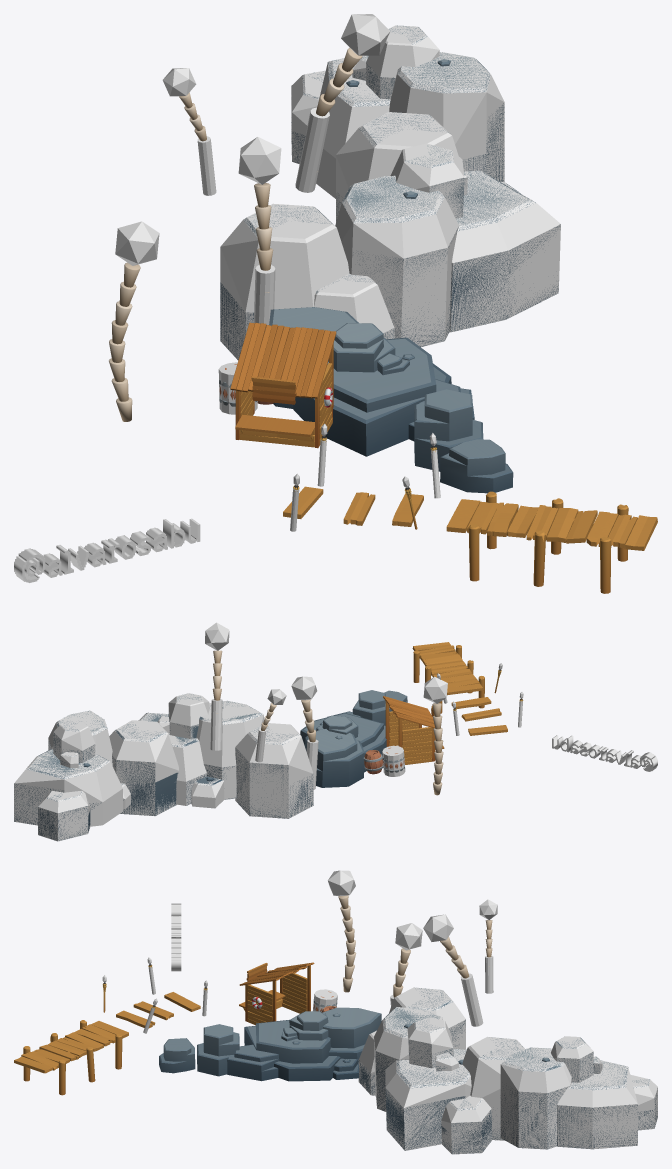
The model's file is portfolio-island.glb.
3 views of the same model, one above another, from view 1: azimuth 30°, elevation 25°; view 2: azimuth 150°, elevation 25°; view 3: azimuth 270°, elevation 25° (orthographic). The views are drawn at different scales.
Parts seen in each view (by area): view 1: Rock_1_M_Part_3-convcolonly.001, Rock_1_M_Color1, Rock_1_M_Part_2-convcolonly.001, Rock_1_F-convcolonly.003, Kyosko, Rock_1_M_Color1.001, Deck, Rock_1_M_Part_3-convcolonly.002, Rock_1_F-convcolonly.002, Rock_1_M_Color1.002, Rock_1_F_Color1, Rock_1_M_Part_2-convcolonly.002 (+15 smaller); view 2: Rock_1_F-convcolonly.003, Rock_1_M_Part_2-convcolonly.002, Rock_1_F-convcolonly.002, Rock_1_M_Color1, Rock_1_M_Part_3-convcolonly.001, Kyosko, Deck, Rock_1_M_Color1.002, Rock_1_F_Color1.002, Rock_1_M_Part_1-convcolonly.002, Rock_1_M_Part_2-convcolonly.001, Rock_1_M_Part_6-convcolonly.001 (+16 smaller); view 3: Rock_1_M_Color1, Rock_1_M_Part_3-convcolonly.002, Rock_1_M_Part_2-convcolonly.002, Rock_1_M_Part_2-convcolonly.001, Rock_1_M_Color1.001, Rock_1_M_Color1.002, Deck, Kyosko, Rock_1_F-convcolonly.002, Rock_1_M_Part_1-convcolonly.001, Rock_1_M_Part_3-convcolonly.001, Rock_1_F-convcolonly.003 (+12 smaller).
Boxes of the visible parts, left/top/right/bottom form: Rock_1_M_Part_3-convcolonly.001: left=335, top=175, right=458, bottom=346; Rock_1_M_Color1: left=269, top=307, right=474, bottom=456; Rock_1_M_Part_2-convcolonly.001: left=449, top=170, right=560, bottom=332; Rock_1_F-convcolonly.003: left=220, top=203, right=349, bottom=360; Kyosko: left=230, top=322, right=336, bottom=448; Rock_1_M_Color1.001: left=342, top=145, right=560, bottom=346; Deck: left=446, top=491, right=657, bottom=593; Rock_1_M_Part_3-convcolonly.002: left=389, top=52, right=504, bottom=181; Rock_1_F-convcolonly.002: left=336, top=112, right=458, bottom=221; Rock_1_M_Color1.002: left=291, top=25, right=504, bottom=181; Rock_1_F_Color1: left=414, top=389, right=483, bottom=471; Rock_1_M_Part_2-convcolonly.002: left=316, top=55, right=390, bottom=198; Rock_1_F-convcolonly.003: left=235, top=723, right=313, bottom=818; Rock_1_M_Part_2-convcolonly.002: left=14, top=749, right=122, bottom=826; Rock_1_F-convcolonly.002: left=109, top=720, right=178, bottom=816; Rock_1_M_Color1: left=300, top=711, right=386, bottom=787; Rock_1_M_Part_3-convcolonly.001: left=196, top=700, right=263, bottom=799; Kyosko: left=383, top=696, right=444, bottom=764; Deck: left=412, top=642, right=484, bottom=713; Rock_1_M_Color1.002: left=14, top=710, right=124, bottom=841; Rock_1_F_Color1.002: left=112, top=724, right=178, bottom=815; Rock_1_M_Part_1-convcolonly.002: left=38, top=790, right=90, bottom=841; Rock_1_M_Part_2-convcolonly.001: left=138, top=713, right=206, bottom=805; Rock_1_M_Part_6-convcolonly.001: left=168, top=693, right=209, bottom=738; Rock_1_M_Color1: left=227, top=1007, right=381, bottom=1081; Rock_1_M_Part_3-convcolonly.002: left=500, top=1047, right=571, bottom=1149; Rock_1_M_Part_2-convcolonly.002: left=557, top=1060, right=637, bottom=1149; Rock_1_M_Part_2-convcolonly.001: left=385, top=1049, right=471, bottom=1150; Rock_1_M_Color1.001: left=375, top=1007, right=492, bottom=1153; Rock_1_M_Color1.002: left=500, top=1037, right=657, bottom=1149; Deck: left=14, top=1020, right=128, bottom=1095; Kyosko: left=239, top=962, right=314, bottom=1025; Rock_1_F-convcolonly.002: left=462, top=1036, right=524, bottom=1140; Rock_1_M_Part_1-convcolonly.001: left=441, top=1095, right=492, bottom=1154; Rock_1_M_Part_3-convcolonly.001: left=374, top=1007, right=442, bottom=1111; Rock_1_F-convcolonly.003: left=389, top=987, right=465, bottom=1049.
Size of what is drawn, in the model's own units: 59.43 by 22.99 by 69.7.
1 material, 1 textured.
